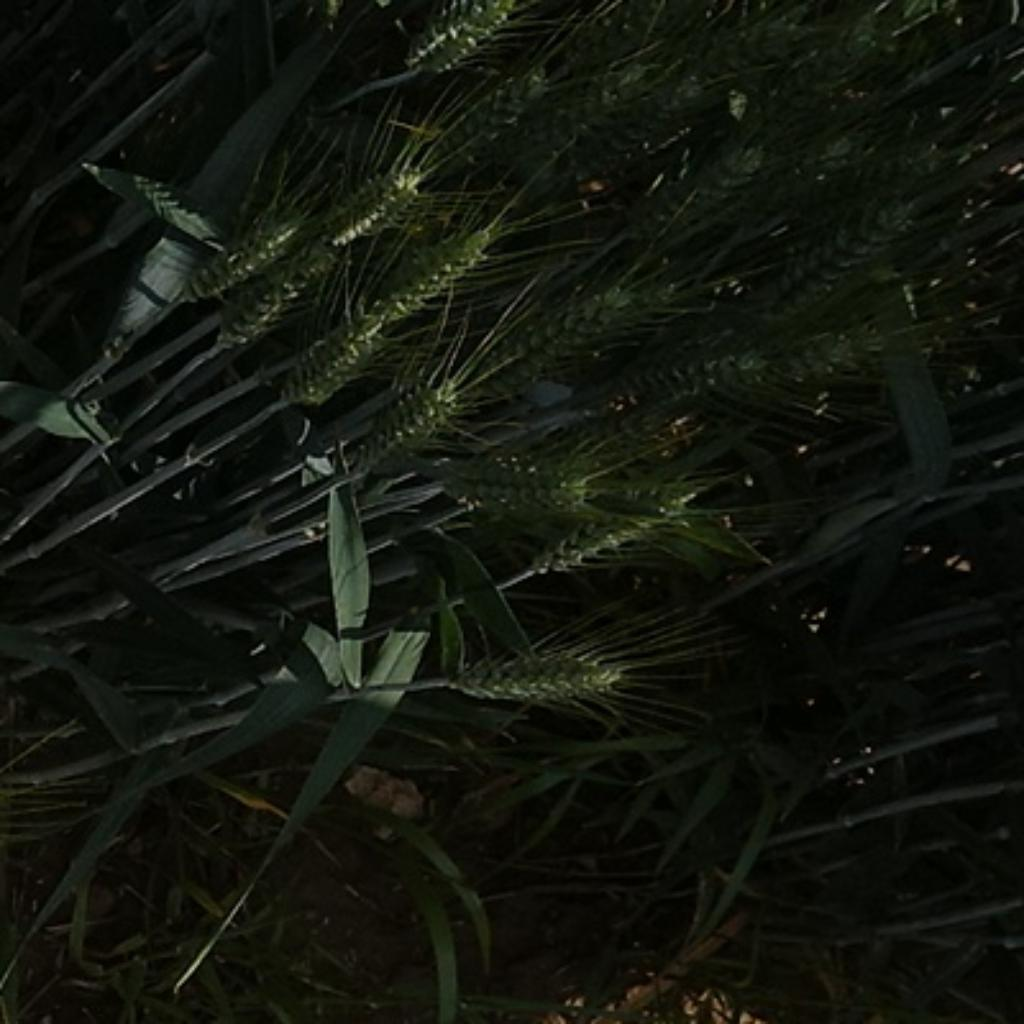0-0: (486, 248, 693, 389), (739, 204, 908, 358), (437, 432, 627, 542), (529, 481, 719, 588), (57, 156, 240, 253), (430, 627, 629, 714), (220, 238, 366, 355), (642, 143, 785, 256), (724, 317, 888, 412), (596, 330, 778, 414), (184, 197, 304, 317), (576, 87, 711, 189), (522, 61, 642, 171), (430, 64, 542, 179), (302, 156, 435, 243), (286, 299, 396, 401), (373, 212, 491, 307), (360, 366, 468, 458), (401, 2, 524, 81)
